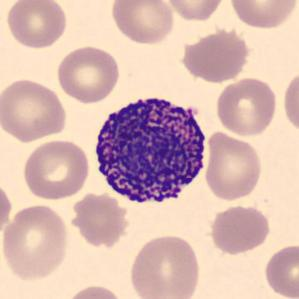Basophil: (88, 87, 213, 215)
RBC: (0, 202, 71, 284), (127, 231, 203, 299), (0, 76, 69, 143), (203, 129, 264, 203), (178, 25, 254, 84), (20, 138, 91, 201), (54, 43, 122, 105), (213, 76, 279, 138), (206, 203, 272, 256), (72, 190, 130, 249), (3, 0, 69, 50), (109, 0, 177, 46), (227, 0, 298, 30), (262, 242, 298, 299), (163, 0, 227, 22), (281, 67, 299, 136), (62, 282, 126, 299), (0, 179, 14, 242)
